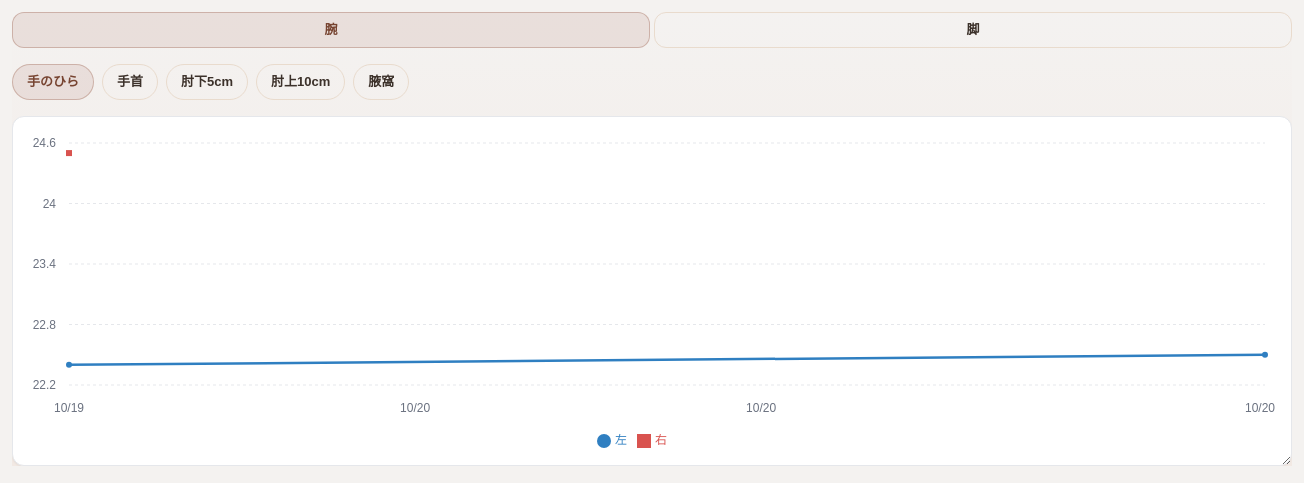
Scenario: CircumferenceGraph › shows the empty state instead of stale points when the query fails
Click the button "手首" at [130, 82], box [102,64,158,100]
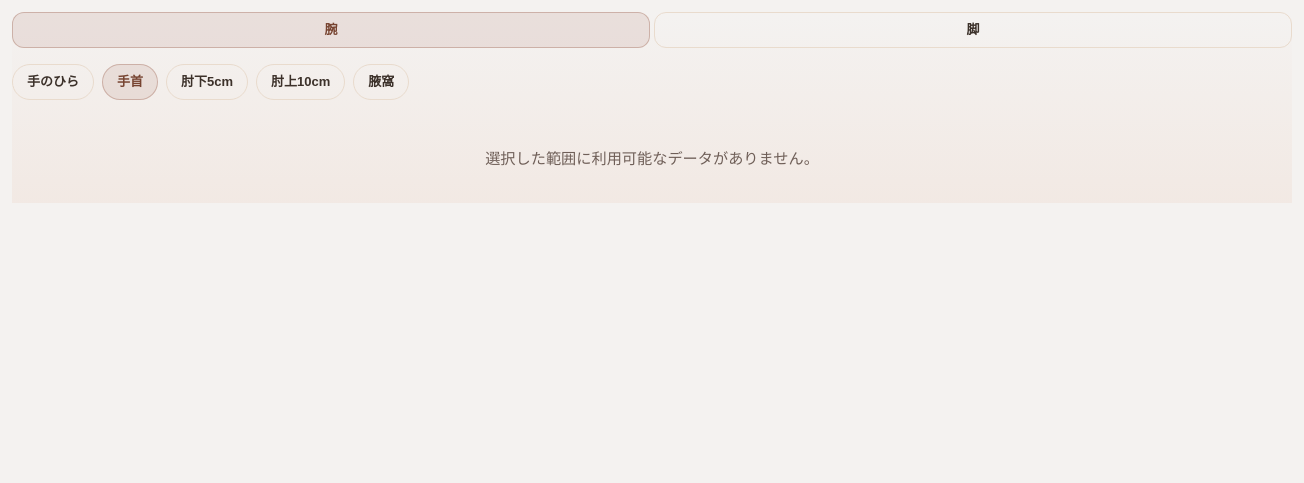
Check: the text "選択した範囲に利用可能なデータがありません。" is shown, box [485,150,819,167]
